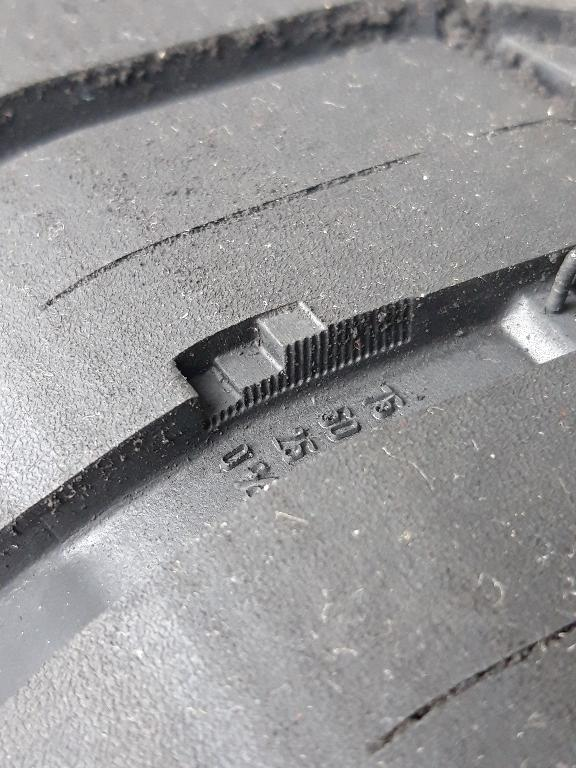temoin:50: (159, 291, 340, 442)
